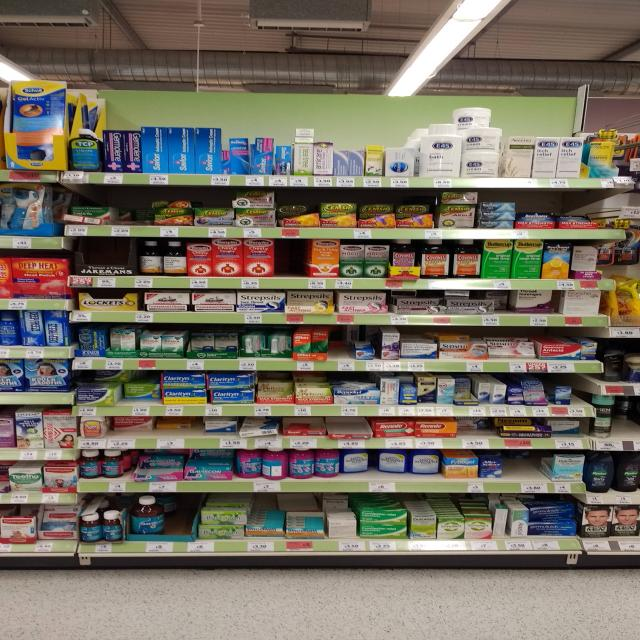unorganised: (339, 451, 443, 481), (359, 200, 430, 219), (189, 332, 239, 355), (514, 290, 559, 314), (248, 136, 276, 174), (62, 205, 115, 225), (453, 104, 492, 129), (19, 309, 45, 346), (263, 447, 290, 481), (279, 200, 316, 222), (110, 415, 153, 433), (258, 381, 292, 403), (239, 423, 280, 441), (122, 385, 159, 404), (202, 419, 237, 437), (529, 505, 574, 519), (154, 419, 193, 434), (90, 370, 127, 384), (459, 418, 491, 434), (490, 290, 510, 309), (477, 381, 492, 405), (455, 380, 471, 401)
